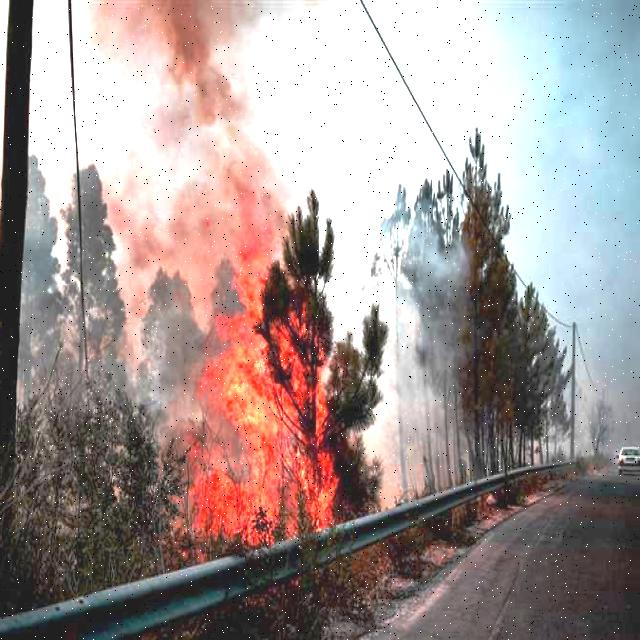api: (200, 247, 330, 551)
asap: (81, 1, 321, 245), (376, 217, 476, 497), (111, 245, 195, 409)
